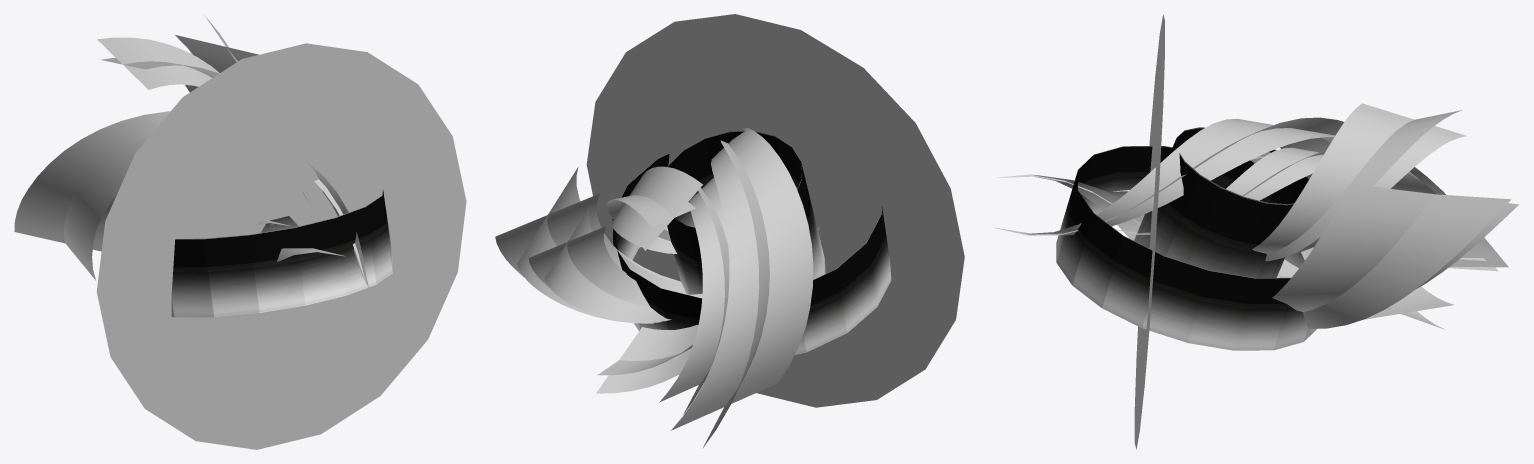
File: Shadow #6804055.fbx
The picture shows the model from 3 angles, left to right: view 1: azimuth 30°, elevation 25°; view 2: azimuth 150°, elevation 25°; view 3: azimuth 270°, elevation 25°; orthographic projection. The views are drawn at different scales.
Visible parts, largest first — view 1: effect_aolabeibei_baoqi_01, effect_yuan_103_mo, effect_zhaohuanxingling_plane_01 (×2); view 2: effect_aolabeibei_baoqi_01, effect_zhaohuanxingling_plane_01 (×3), effect_yuan_103_mo, effect_yuan_103_mo (1); view 3: effect_zhaohuanxingling_plane_01 (×3), effect_yuan_103_mo, effect_yuan_103_mo (1), effect_aolabeibei_baoqi_01.
Part boxes in pixels (bbox=[...]): effect_aolabeibei_baoqi_01: bbox=[96, 43, 466, 449]; effect_yuan_103_mo: bbox=[171, 190, 393, 317]; effect_zhaohuanxingling_plane_01 (×2): bbox=[14, 15, 369, 289]; effect_aolabeibei_baoqi_01: bbox=[586, 14, 964, 407]; effect_zhaohuanxingling_plane_01 (×3): bbox=[495, 128, 820, 448]; effect_yuan_103_mo: bbox=[612, 153, 891, 354]; effect_yuan_103_mo (1): bbox=[667, 131, 825, 294]; effect_zhaohuanxingling_plane_01 (×3): bbox=[994, 103, 1519, 329]; effect_yuan_103_mo: bbox=[1056, 146, 1317, 350]; effect_yuan_103_mo (1): bbox=[1134, 127, 1308, 277]; effect_aolabeibei_baoqi_01: bbox=[1134, 14, 1164, 449].
Bounding box in the file's own units: 5.37 × 5.27 × 6.44.
